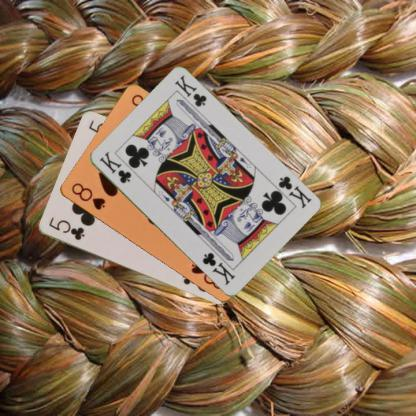5c: (46, 214, 86, 242)
8s: (68, 180, 106, 212)
Kc: (275, 174, 313, 210), (96, 148, 132, 185)
